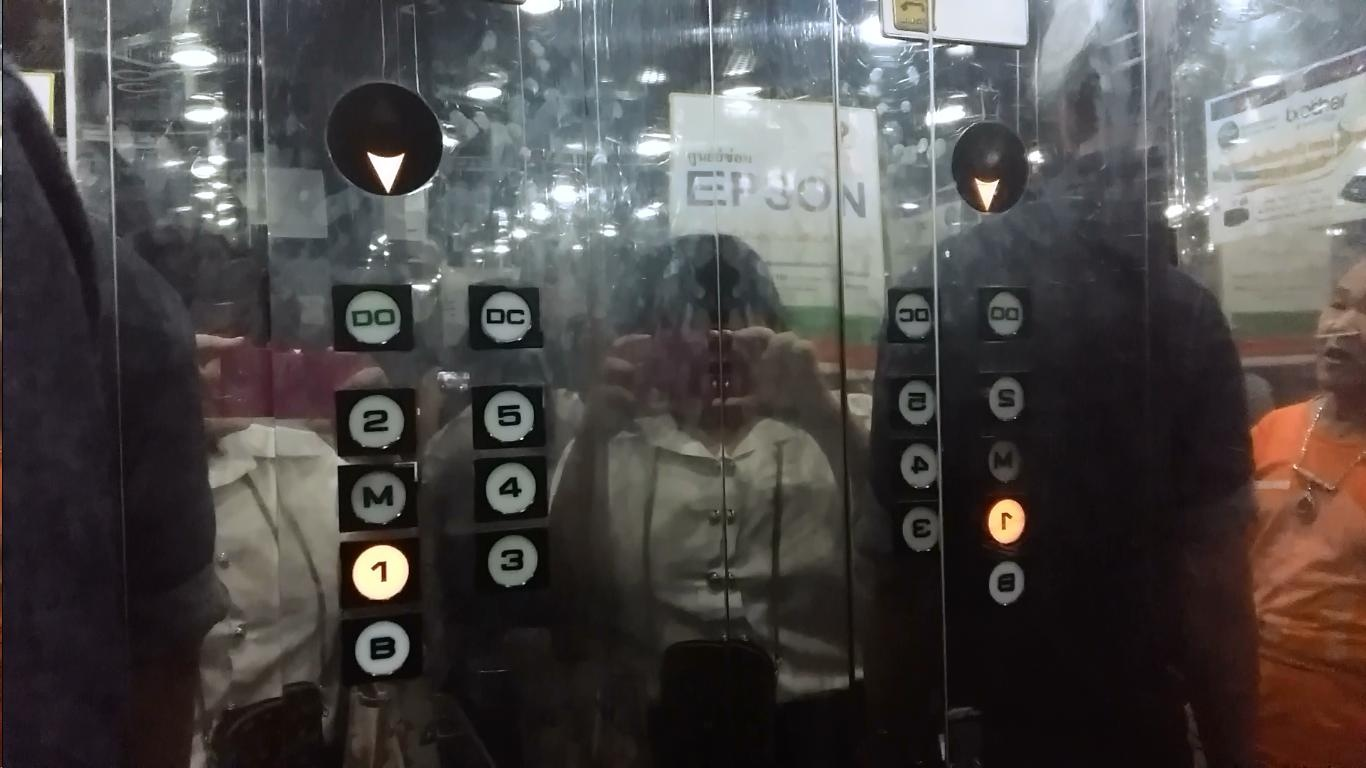1: (335, 532, 422, 612)
2: (337, 393, 417, 456)
3: (476, 533, 551, 597)
4: (475, 455, 547, 524)
5: (472, 385, 544, 452)
B: (335, 615, 423, 688)
M: (337, 464, 417, 533)
close: (467, 287, 544, 352)
led: (320, 75, 450, 202), (947, 115, 1033, 216)
open: (331, 285, 414, 353)
unknown: (879, 285, 945, 348), (975, 289, 1029, 348), (979, 372, 1034, 428), (982, 487, 1029, 548), (895, 376, 940, 428), (901, 509, 947, 559), (984, 561, 1025, 604), (903, 444, 940, 487), (988, 444, 1023, 485)
